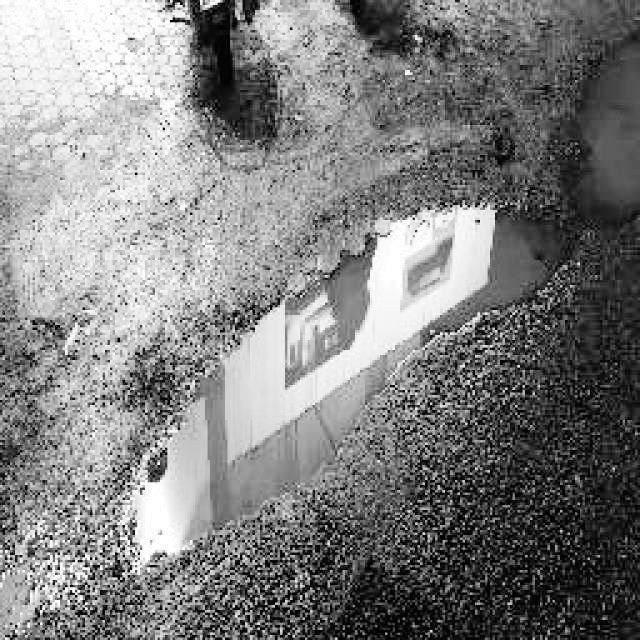Pothole: (109, 185, 595, 587), (563, 23, 640, 233)
